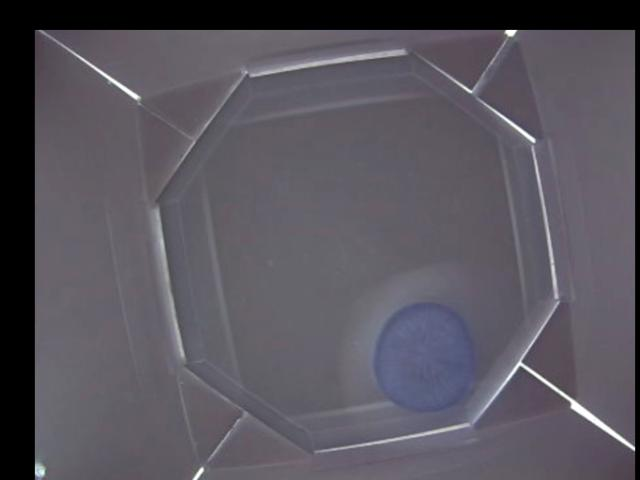Mooli: (370, 302, 479, 410)
